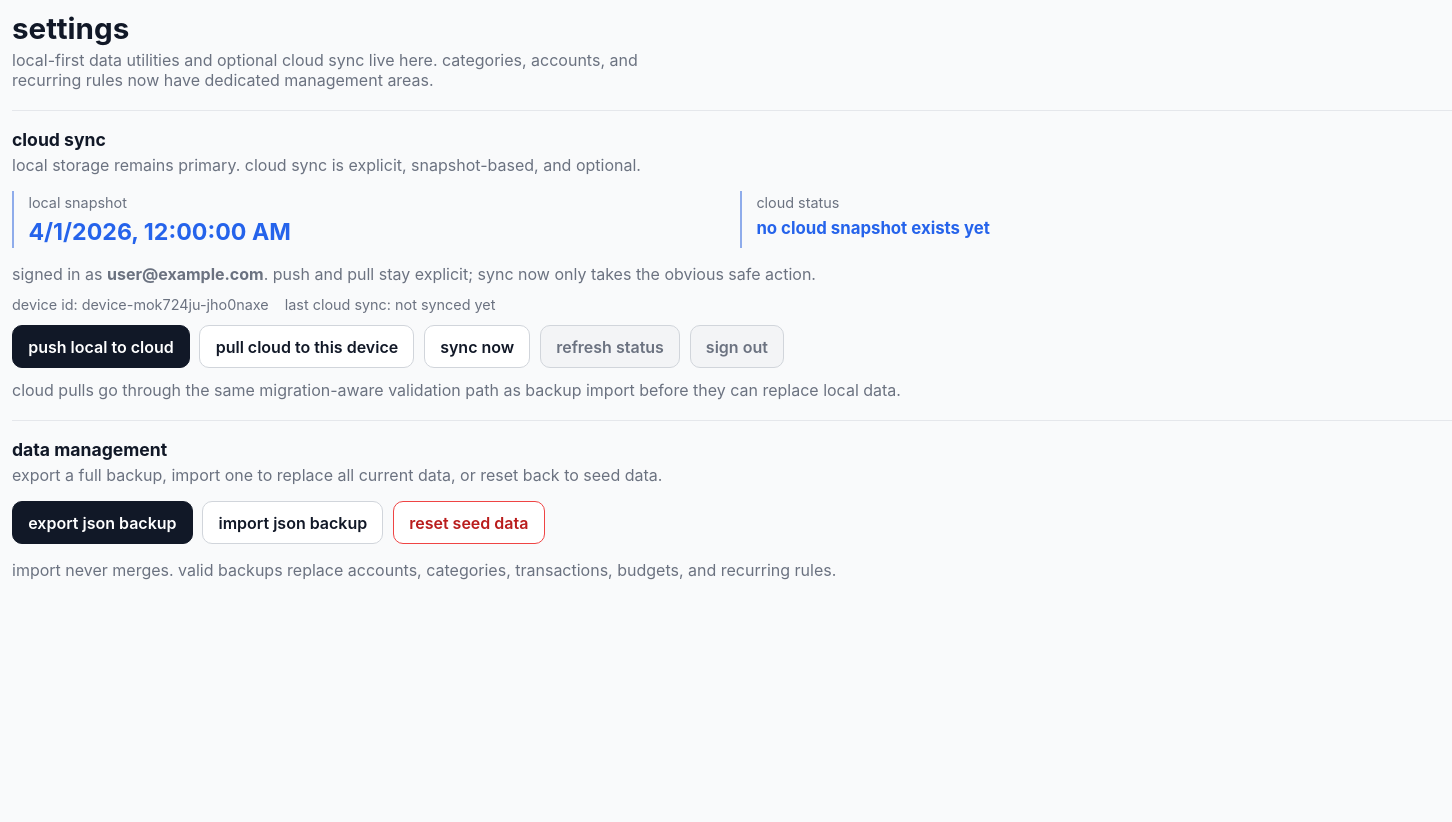
Test: settings page backup import › pulls a validated cloud snapshot through the existing replace path
Click the button "pull cloud to this device" at (307, 347), box left=200, top=325, right=414, bottom=368
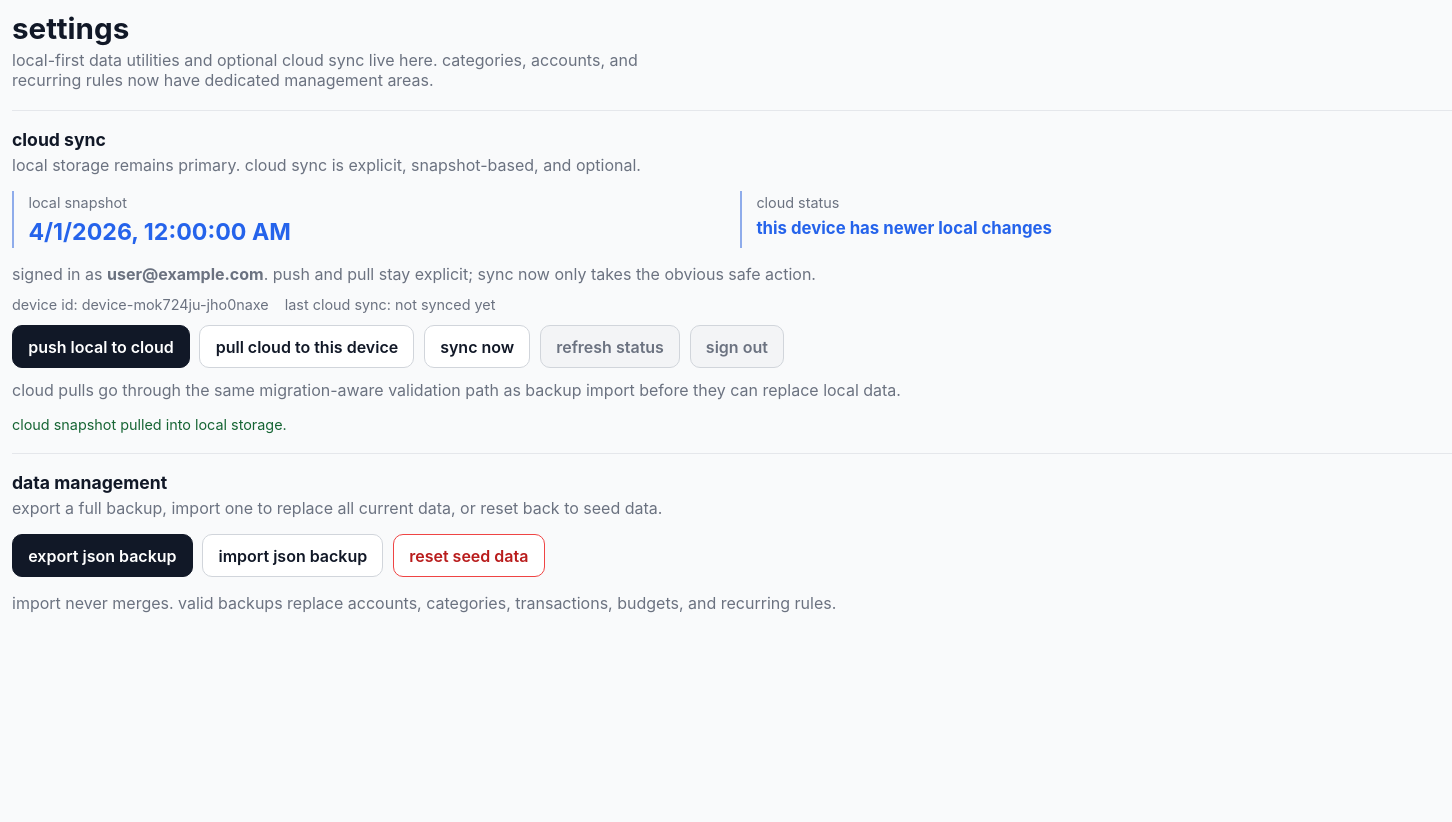
Result: the text "cloud snapshot pulled into local storage." is shown at left=12, top=416, right=287, bottom=433
